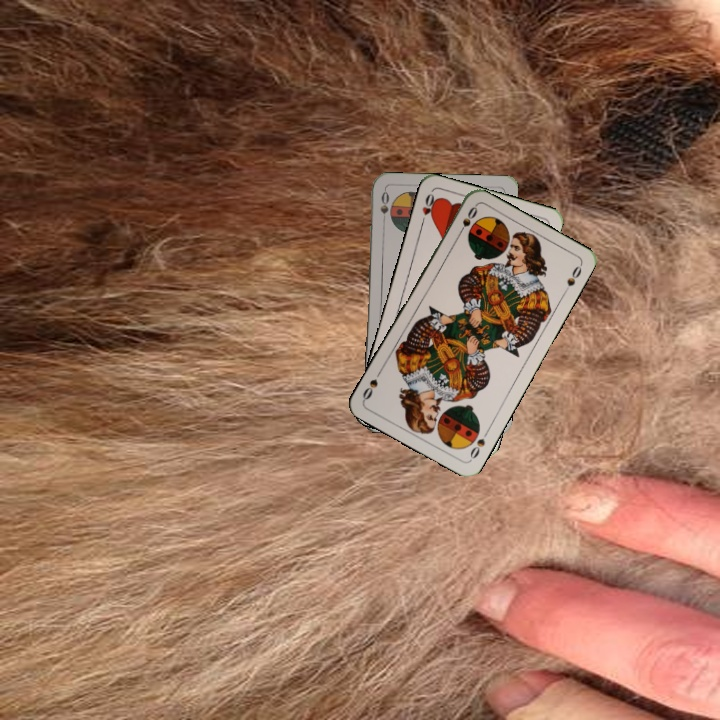HO: (417, 189, 439, 228)
SO: (453, 202, 480, 239), (466, 426, 492, 463), (376, 187, 392, 228)
